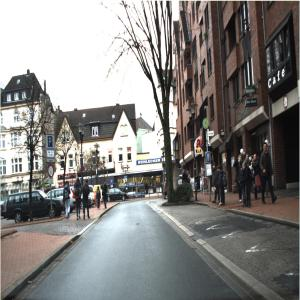no traffic both ways: (48, 164, 55, 179)
